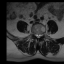CCS_stenosis: (37, 32, 39, 39)
LFS_normal: (41, 31, 43, 38)
LLS_normal: (39, 31, 41, 39)
RFS_normal: (33, 31, 35, 37)
RLS_normal: (35, 32, 37, 38)
